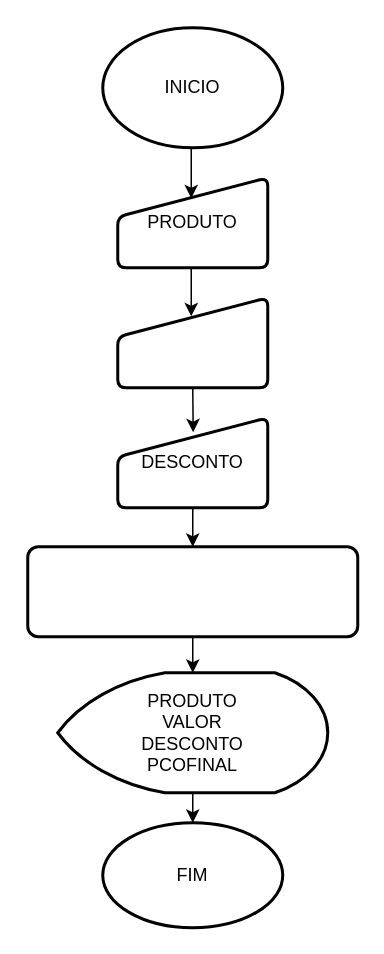
This 384x954 diagram has some shape labels left out. Each missing label, with the box of its shape:
PRECOFINAL = VALOR - DESCONTO: (26, 544, 358, 638)
VALOR: (116, 296, 268, 388)
